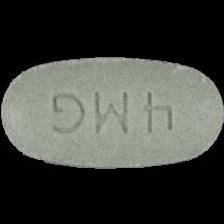54092-519: (0, 0, 224, 224)
